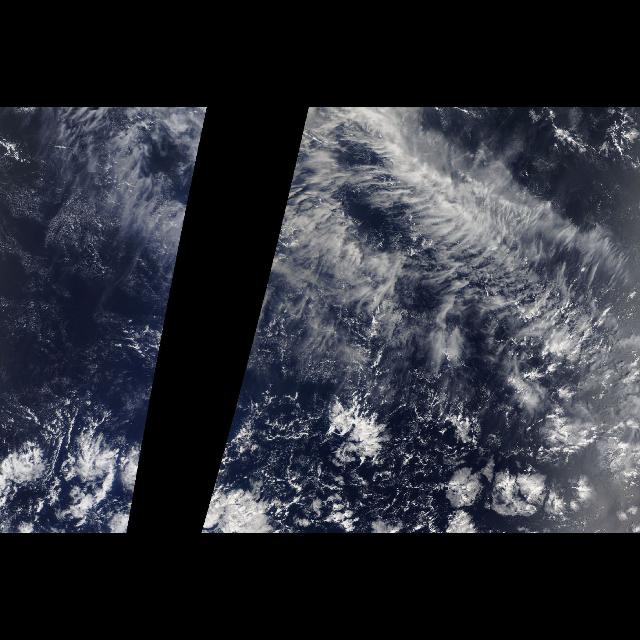Fish: (309, 113, 635, 359)
